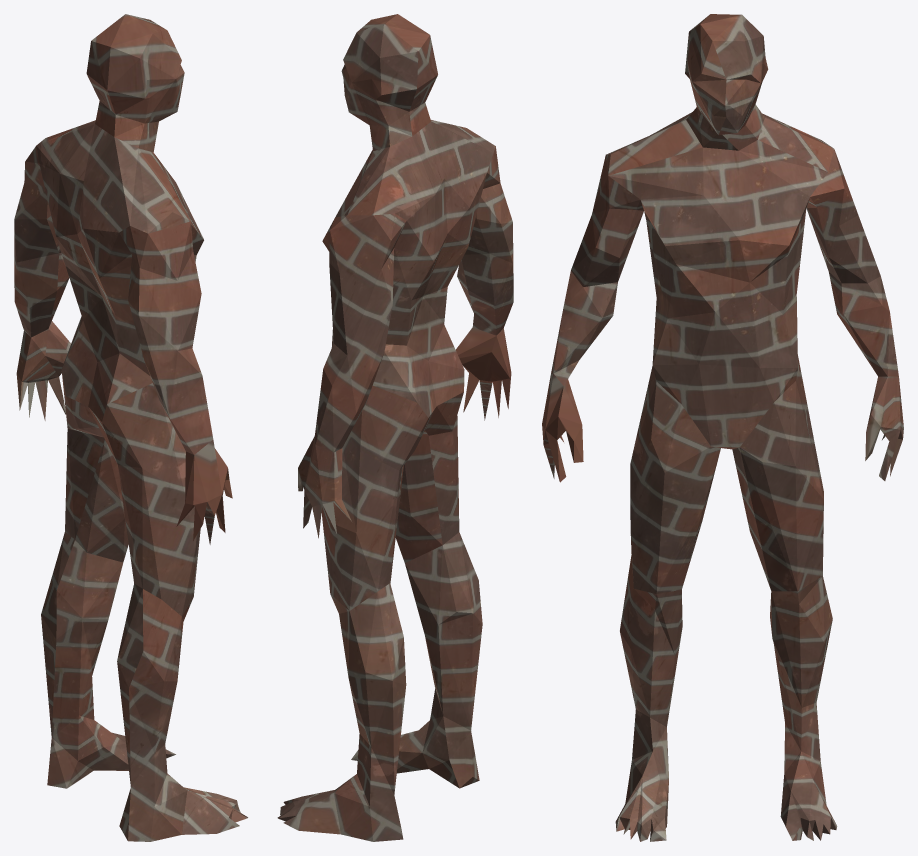
File: DefaultHuman.fbx
3 views of the same model, side by side, from view 1: azimuth 30°, elevation 25°; view 2: azimuth 150°, elevation 25°; view 3: azimuth 270°, elevation 25° (orthographic).
Visible parts, largest first — view 1: Gary; view 2: Gary; view 3: Gary.
Part boxes in pixels (<box>): Gary: <box>14,14,247,841</box>; Gary: <box>277,14,513,841</box>; Gary: <box>542,14,903,841</box>.
Bounding box in the file's own units: 0.3312 × 1.78 × 0.7325.
Materials: 1 (1 with a texture image).
